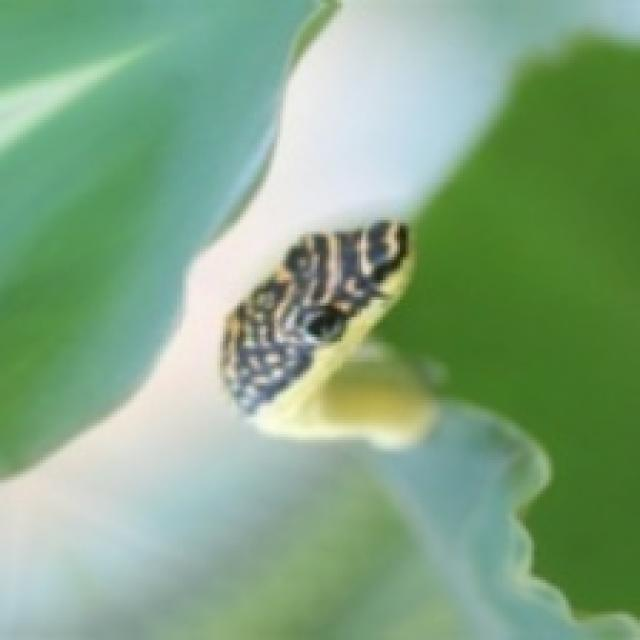paradise tree snake: (221, 220, 438, 448)
